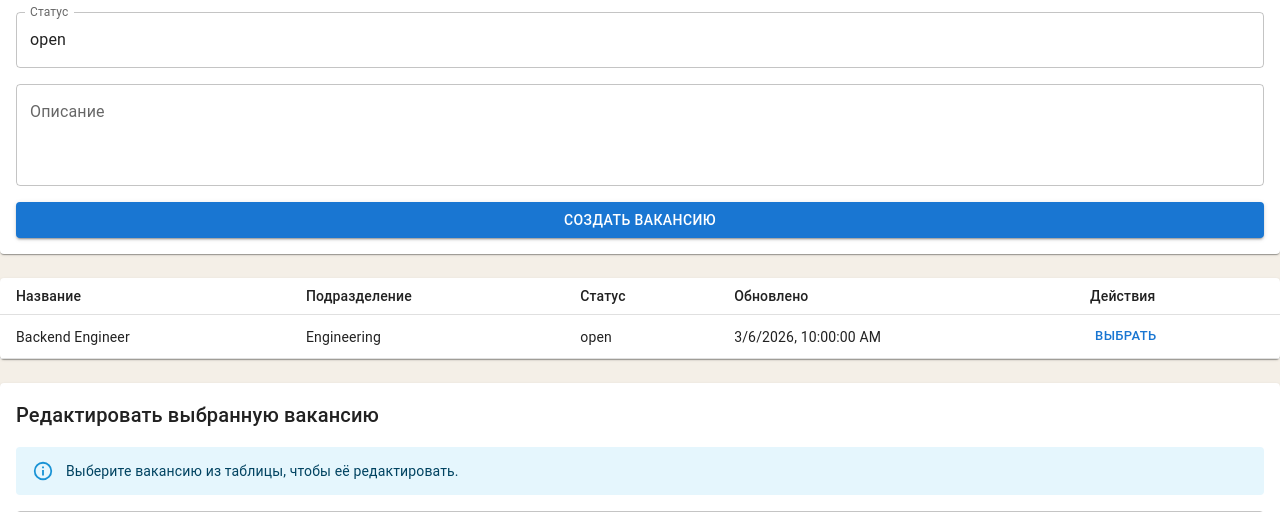
Test: HrDashboardPage › renders failed scoring job state
(page scrolled)
Click the button "Выбрать".
click(1126, 337)  # box 1090,321 -> 1162,352
(page scrolled)
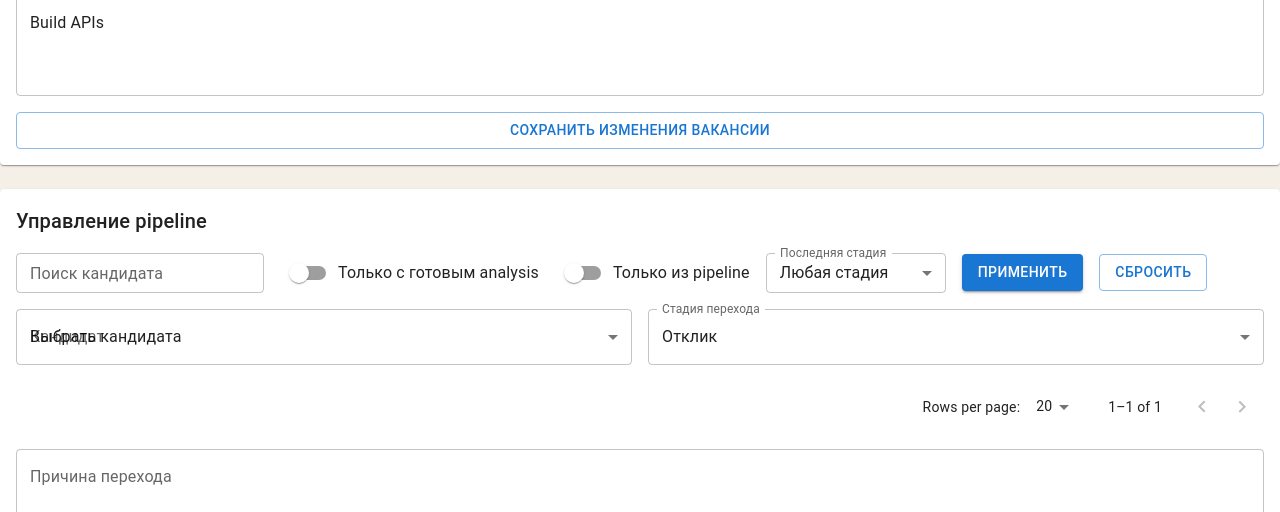
Select "John Doe (john@example.com)" in the dropdown labelled "Кандидат" at (324,336), box 16,308 -> 632,364
(page scrolled)
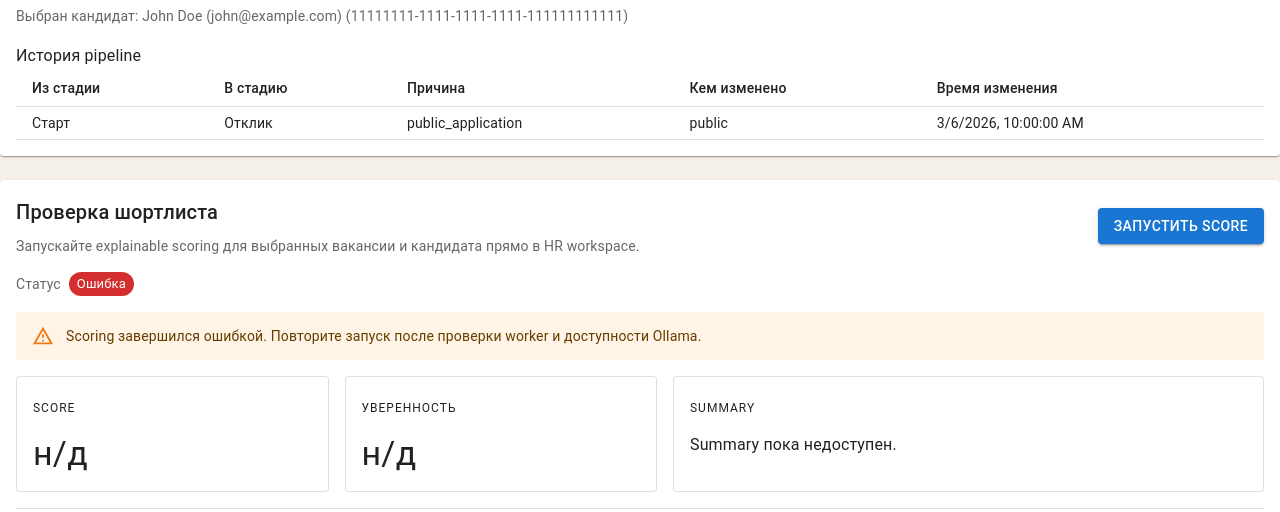
Expected: the text "Ошибка" is shown, 77,276 -> 126,291
Expected: the text "Scoring завершился ошибкой" is shown, 66,328 -> 702,344
